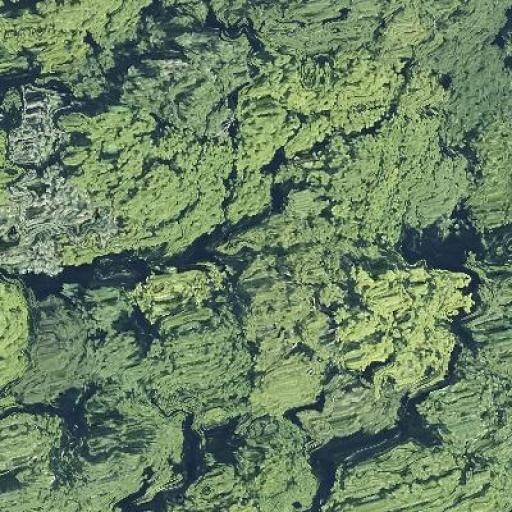tree-top: (92, 115, 236, 256), (0, 86, 95, 279), (333, 258, 472, 388), (334, 121, 469, 247), (118, 24, 258, 137), (246, 243, 333, 420), (321, 439, 511, 511), (24, 280, 146, 392), (141, 307, 256, 416), (90, 389, 197, 504), (428, 2, 512, 118), (279, 58, 406, 132), (183, 446, 325, 510), (0, 413, 90, 512), (407, 374, 512, 451), (5, 2, 123, 70), (295, 378, 409, 448), (246, 0, 386, 56), (130, 260, 236, 314), (465, 114, 512, 234), (469, 248, 512, 371), (0, 274, 36, 386), (282, 153, 336, 226), (222, 167, 285, 224)
